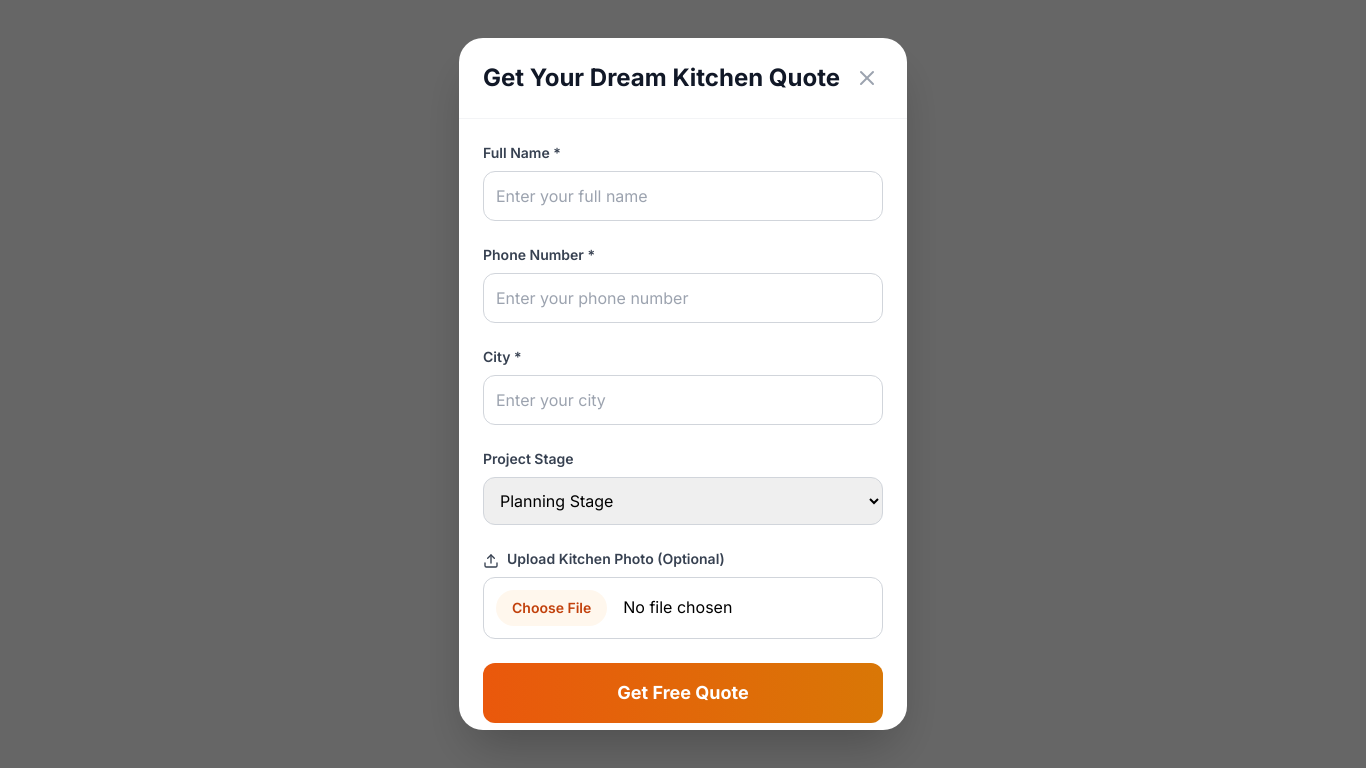
Test: ContactModal › validates phone number format
The width and height of the screenshot is (1366, 768).
Type "123" into the field with placeholder "Enter your phone number".
click(683, 298); type("123")  # box [483, 273, 883, 323]
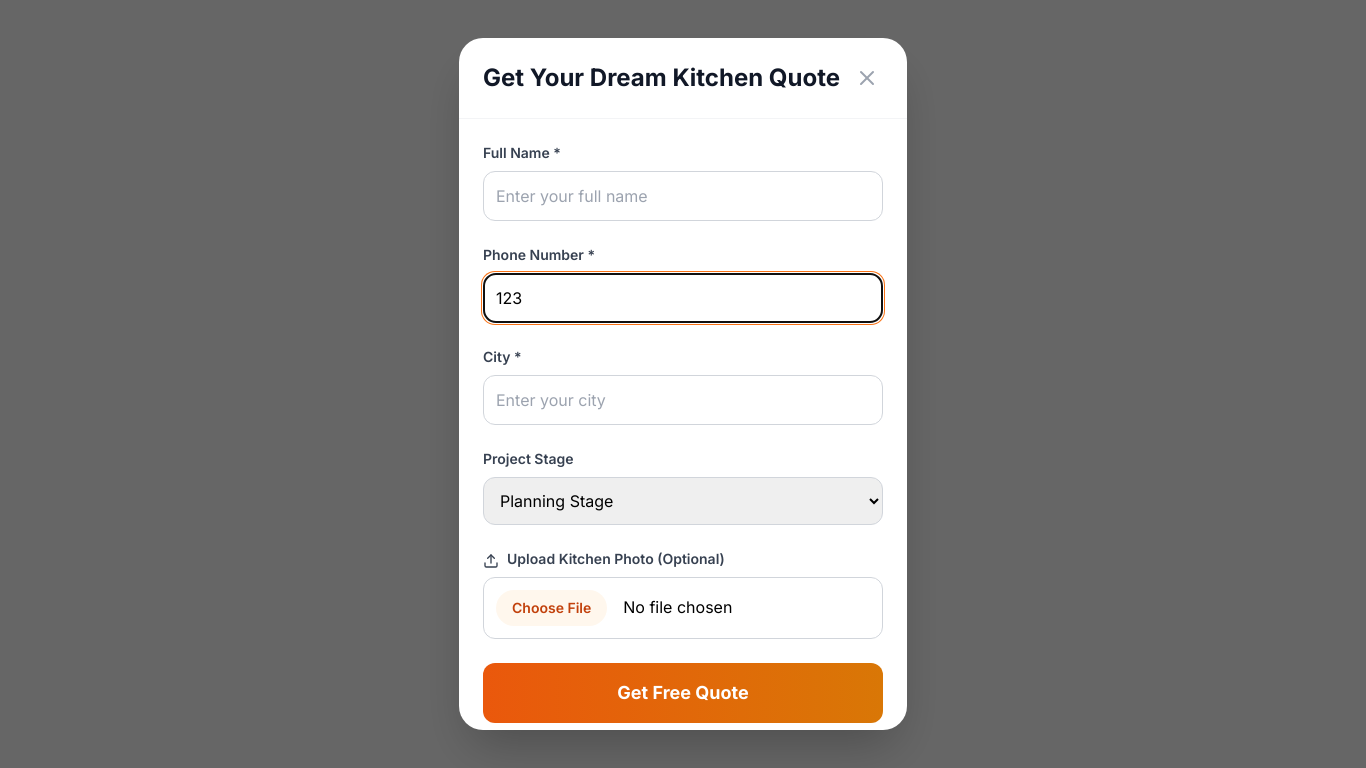
Click the button "Get Free Quote".
click(683, 693)  # box [483, 663, 883, 723]
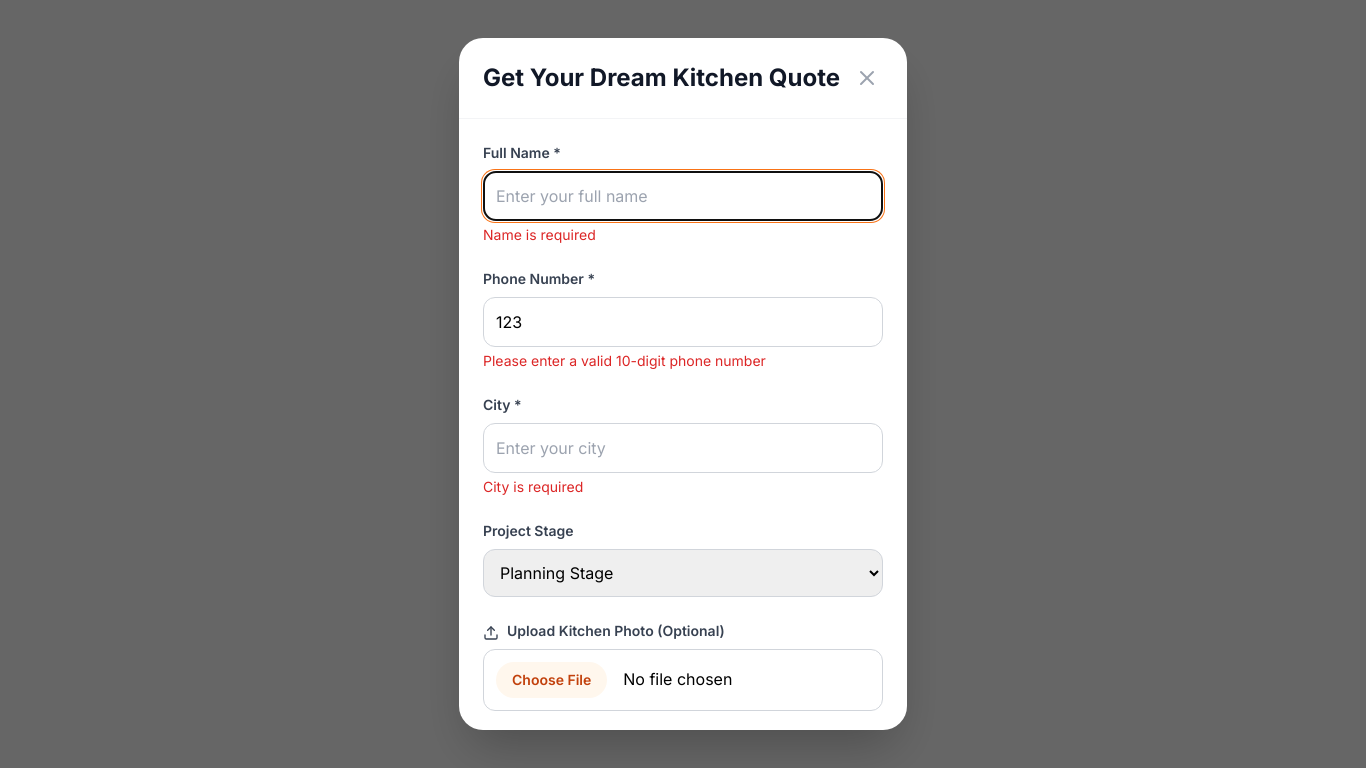
Check: the text "Please enter a valid 10-digit phone number" is shown, box [483, 352, 766, 369]
